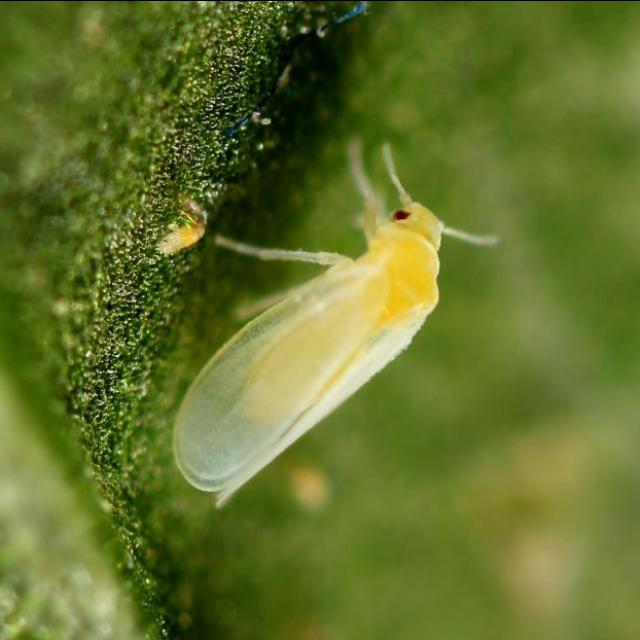Whitefly: (162, 123, 521, 528)
